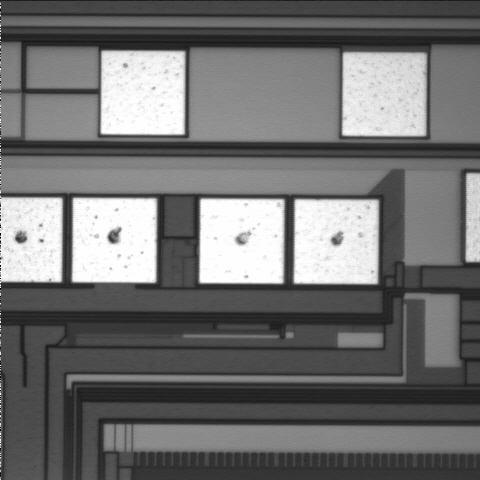pad: (72, 198, 157, 283), (199, 199, 284, 284), (294, 199, 378, 284), (101, 51, 185, 135), (342, 53, 426, 136)
